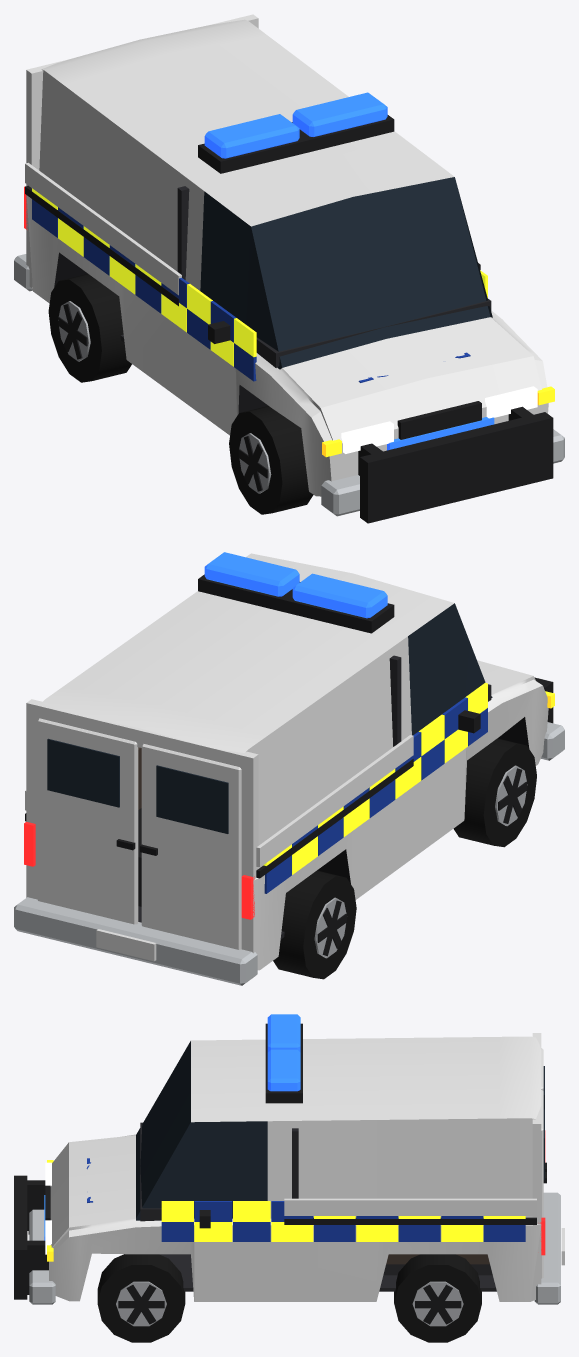
File: policevan.glb
The picture shows the model from 3 angles, top to bottom: view 1: azimuth 30°, elevation 25°; view 2: azimuth 150°, elevation 25°; view 3: azimuth 270°, elevation 25°; orthographic projection. The views are drawn at different scales.
Visible parts, largest first — view 1: policevan_body, policevan_door_r, policevan_wheel_fr, policevan_wheel_rr; view 2: policevan_body, policevan_door_bl, policevan_door_br, policevan_door_r, policevan_wheel_rr, policevan_wheel_fr; view 3: policevan_body, policevan_door_l, policevan_wheel_fl, policevan_wheel_rl, policevan_door_bl.
Boxes of the visible parts, left/top/right/bottom form: policevan_body: left=14, top=14, right=564, bottom=523; policevan_door_r: left=187, top=190, right=248, bottom=435; policevan_wheel_fr: left=229, top=406, right=313, bottom=514; policevan_wheel_rr: left=48, top=274, right=131, bottom=382; policevan_body: left=14, top=552, right=564, bottom=985; policevan_door_bl: left=37, top=718, right=138, bottom=924; policevan_door_br: left=140, top=744, right=241, bottom=949; policevan_door_r: left=406, top=604, right=480, bottom=854; policevan_wheel_rr: left=273, top=870, right=356, bottom=979; policevan_wheel_fr: left=453, top=738, right=536, bottom=847; policevan_body: left=14, top=1014, right=564, bottom=1304; policevan_door_l: left=194, top=1121, right=270, bottom=1301; policevan_wheel_fl: left=97, top=1254, right=185, bottom=1342; policevan_wheel_rl: left=394, top=1254, right=481, bottom=1342; policevan_door_bl: left=541, top=1090, right=546, bottom=1278.
Size of the model in its own units: 2.3 by 2.46 by 5.02.
